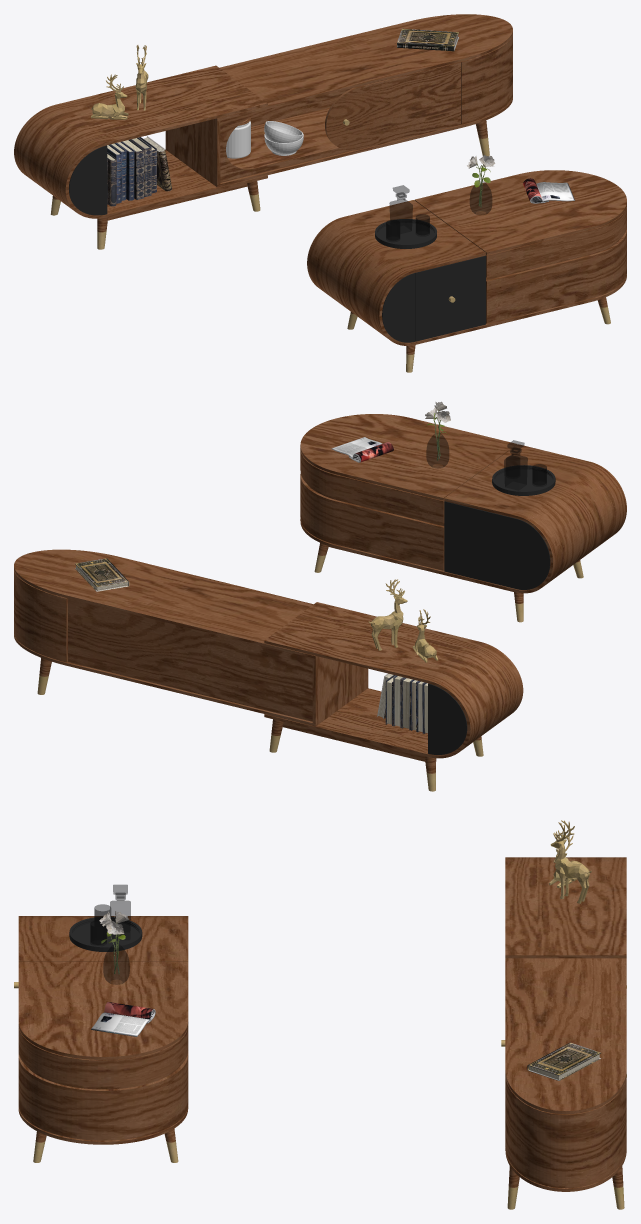
The model's file is desk_set.glb.
The picture shows the model from 3 angles, top to bottom: view 1: azimuth 30°, elevation 25°; view 2: azimuth 150°, elevation 25°; view 3: azimuth 270°, elevation 25°; orthographic projection. The views are drawn at different scales.
Parts seen in each view (by area): view 1: Coffee_table, TV_table_2, TV_table_1, TV_tabel_2_door, Book_pack_8, Tray, Book_4, Magazine, Decanter, Golden_Deer_2.001, Jar, Bowl_1 (+3 smaller); view 2: Coffee_table, TV_table_2, TV_table_1, Book_pack_8, Tray, Book_4, Golden_Deer_1.001, Decanter, Magazine, Vase, Golden_Deer_2.001; view 3: Coffee_table, TV_table_2, TV_table_1, Tray, Book_4, Magazine, Golden_Deer_1.001, Vase, Decanter.
Boxes of the visible parts, box(x1,y1,x2,y2) form: Coffee_table: box(307, 170, 626, 372); TV_table_2: box(165, 14, 512, 187); TV_table_1: box(14, 65, 267, 249); TV_tabel_2_door: box(325, 62, 460, 150); Book_pack_8: box(107, 137, 156, 206); Tray: box(375, 219, 436, 248); Book_4: box(397, 28, 458, 51); Magazine: box(523, 178, 574, 203); Decanter: box(389, 185, 412, 233); Golden_Deer_2.001: box(91, 74, 128, 119); Jar: box(226, 118, 250, 158); Bowl_1: box(264, 121, 302, 142); Coffee_table: box(300, 414, 626, 622); TV_table_2: box(14, 549, 368, 726); TV_table_1: box(264, 602, 523, 791); Book_pack_8: box(385, 675, 427, 733); Tray: box(492, 465, 555, 495); Book_4: box(75, 558, 129, 591); Golden_Deer_1.001: box(368, 579, 407, 650); Decanter: box(504, 440, 527, 490); Magazine: box(331, 437, 393, 462); Vase: box(426, 433, 448, 468); Golden_Deer_2.001: box(412, 609, 438, 662); Coffee_table: box(14, 916, 188, 1162); TV_table_2: box(505, 958, 626, 1209); TV_table_1: box(505, 857, 626, 1077); Tray: box(69, 916, 142, 951); Book_4: box(527, 1042, 600, 1080); Magazine: box(91, 1002, 155, 1036); Golden_Deer_1.001: box(550, 820, 591, 903); Vase: box(103, 944, 129, 984); Decanter: box(110, 885, 130, 939).
Bounding box in the file's own units: 2.62 × 0.9162 × 2.53.
21 materials, 15 textured.
